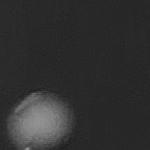colony: (0, 86, 81, 150)
